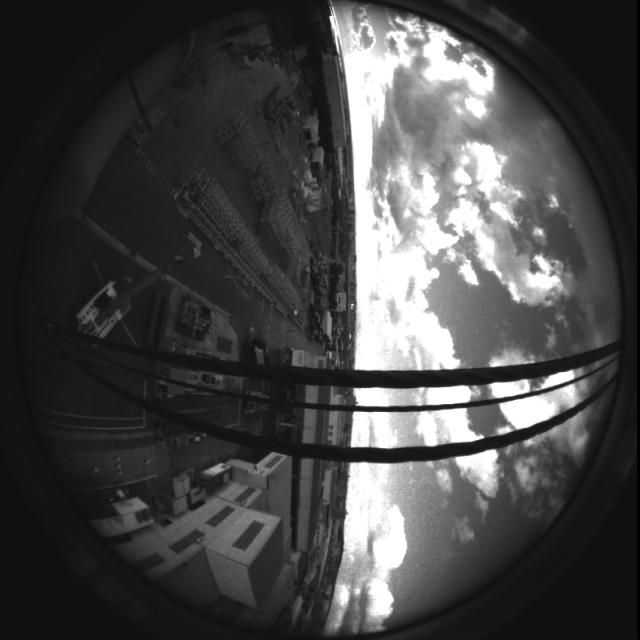rope: (7, 313, 623, 470)
sky: (321, 5, 623, 638)
